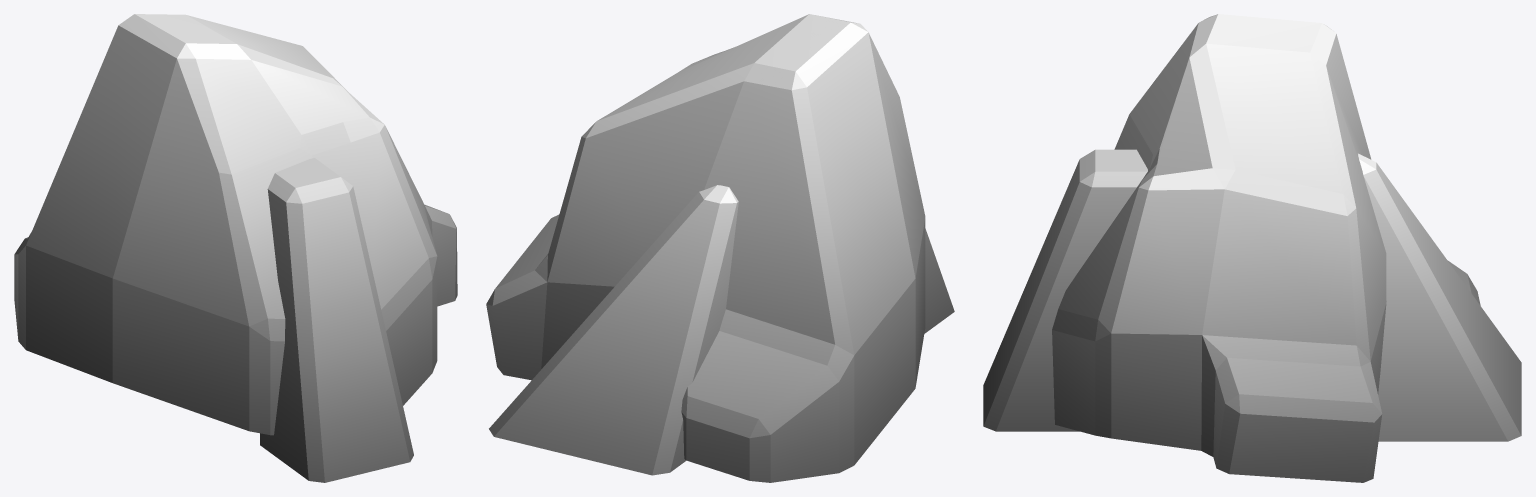
Rendered from Rock Large 1.glb.
The picture shows the model from 3 angles, left to right: view 1: azimuth 30°, elevation 25°; view 2: azimuth 150°, elevation 25°; view 3: azimuth 270°, elevation 25°; orthographic projection. The views are drawn at different scales.
Parts seen in each view (by area): view 1: Rock Large 1; view 2: Rock Large 1; view 3: Rock Large 1.
Boxes of the visible parts, <box> form: Rock Large 1: <box>14,14,457,482</box>; Rock Large 1: <box>486,14,954,482</box>; Rock Large 1: <box>983,14,1521,482</box>.
Size of the model in its own units: 3.63 by 3.43 by 4.64.
1 material, 1 textured.
